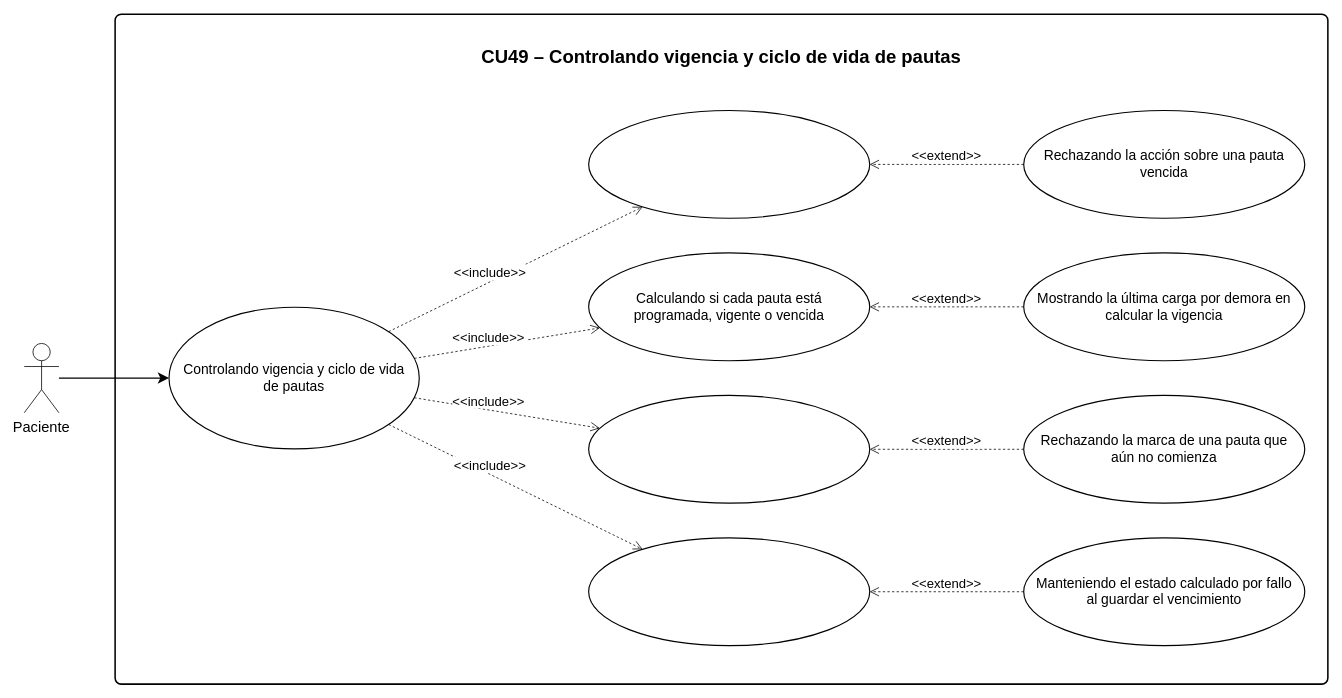
This 1342x698 diagram has some shape labels left out. The shapes that lost their labels are listed below. From the top down, each one's box as (x1, y1, x2, y2) in pixels, then its label:
(588, 110, 870, 219): Abriendo sus pautas
(588, 394, 870, 503): Viendo el contenido según su estado
(588, 537, 870, 646): Bloqueando el material y las marcas de las pautas vencidas
